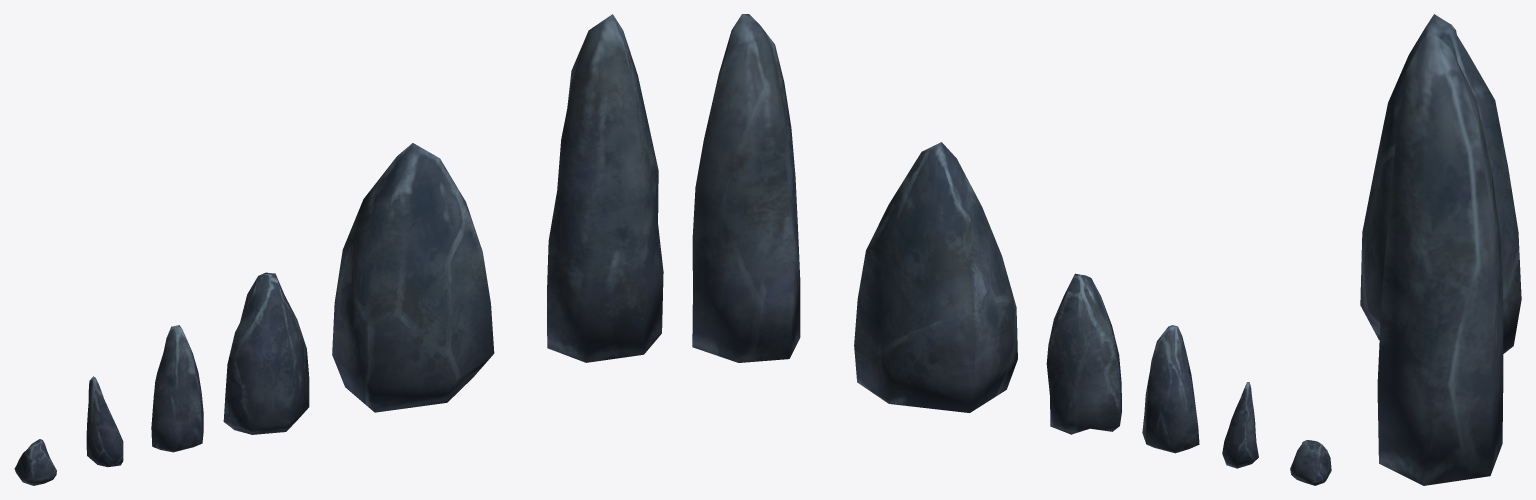
File: TriStone.fbx
3 renders of one model, left to right at view 1: azimuth 30°, elevation 25°; view 2: azimuth 150°, elevation 25°; view 3: azimuth 270°, elevation 25°, orthographic. The views are drawn at different scales.
Parts seen in each view (by area): view 1: TriStone4_low, TriStone5_low, TriStone3_low, TriStone2_low, TriStone1_low, TriStone0_low; view 2: TriStone4_low, TriStone5_low, TriStone3_low, TriStone2_low, TriStone1_low, TriStone0_low; view 3: TriStone5_low, TriStone4_low.
Part boxes in pixels (x1,y1,x2,y2): TriStone4_low: (332, 143, 494, 412); TriStone5_low: (547, 14, 663, 362); TriStone3_low: (223, 272, 309, 434); TriStone2_low: (151, 325, 203, 452); TriStone1_low: (86, 376, 123, 467); TriStone0_low: (14, 439, 56, 485); TriStone4_low: (854, 142, 1017, 412); TriStone5_low: (692, 14, 800, 362); TriStone3_low: (1046, 273, 1121, 434); TriStone2_low: (1142, 325, 1199, 453); TriStone1_low: (1222, 382, 1258, 468); TriStone0_low: (1290, 440, 1331, 485); TriStone5_low: (1377, 36, 1503, 485); TriStone4_low: (1360, 14, 1521, 353).
Bounding box in the file's own units: 587 × 288 × 99.79.
